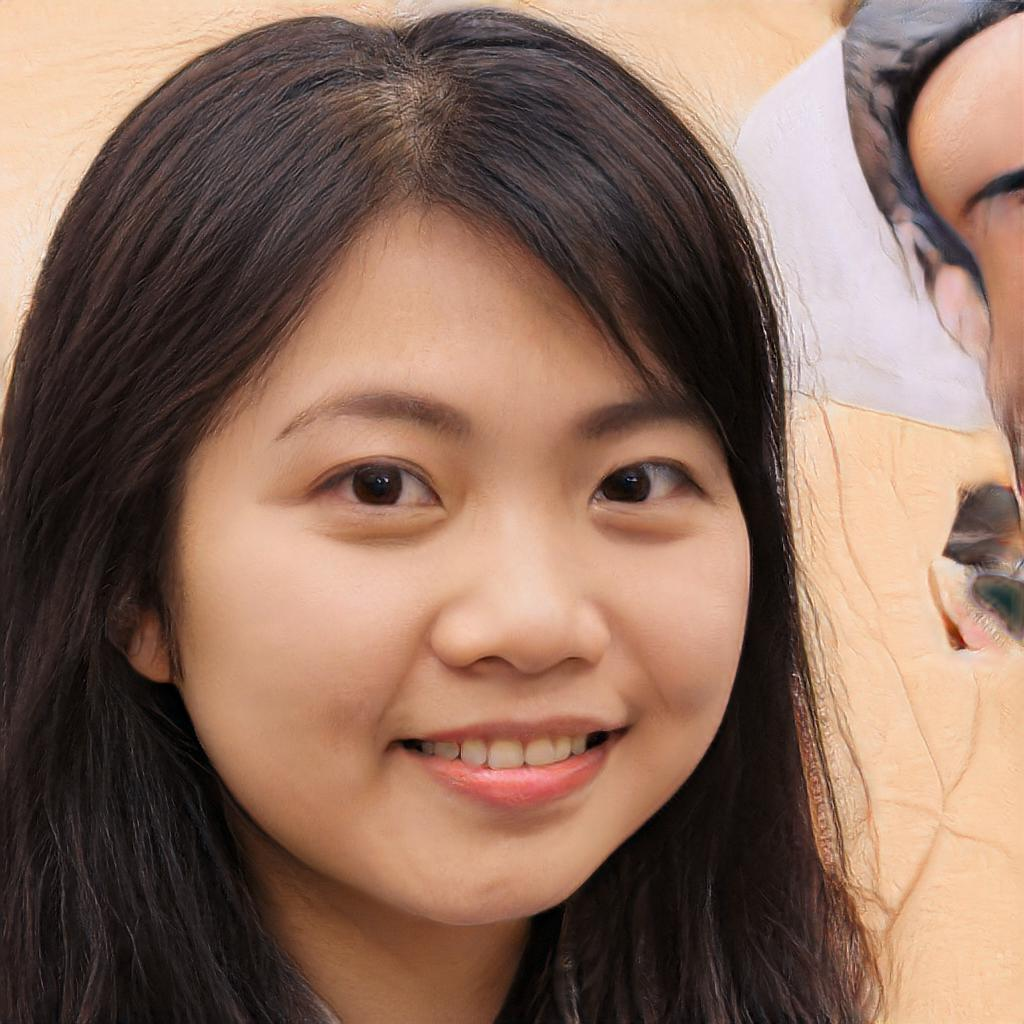face: (176, 205, 752, 923)
